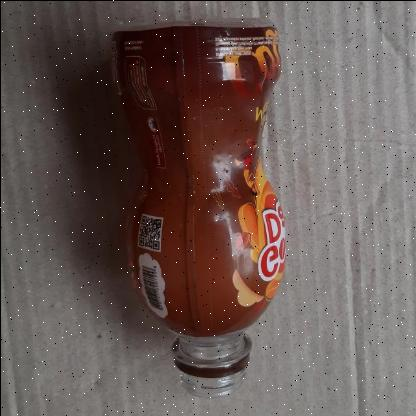Plastic Bottle: (104, 14, 284, 392)
